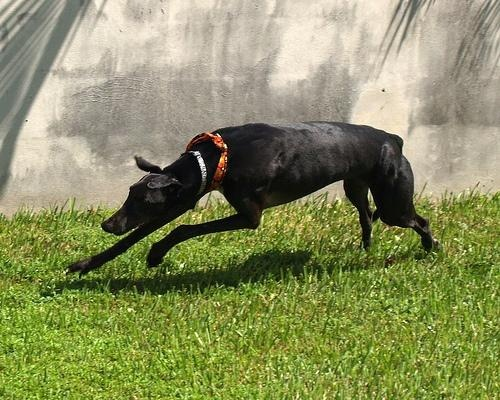dog: (66, 121, 440, 276)
